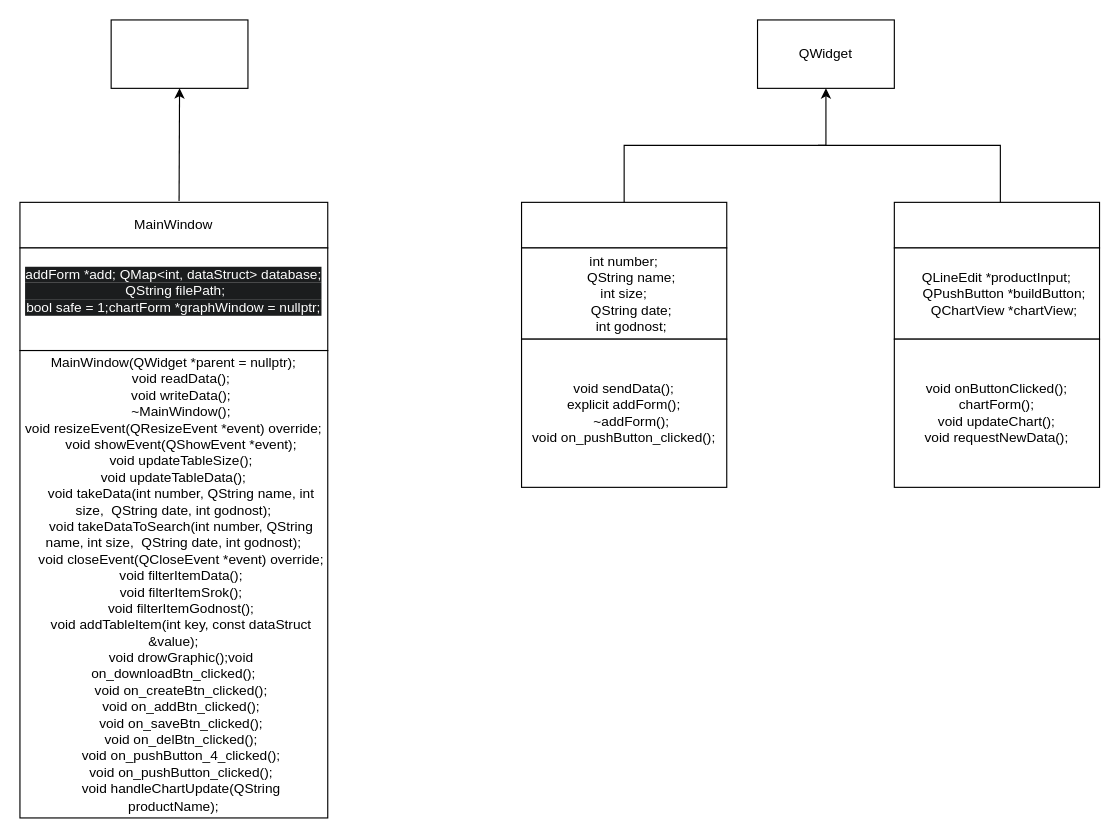
Image size: 1119x838. Some labels were removed from this diagram. The shapes that lost their labels are listed below. From the top down, each one's centre as x and y in pixels, then its label:
the point at 179,53: QMainWindow
the point at 623,224: addForm
the point at 996,224: chartForm
